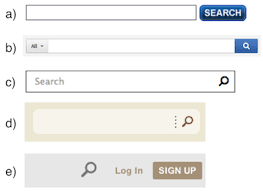searchIcon: (79, 159, 97, 179), (180, 113, 194, 128), (218, 74, 230, 88), (243, 41, 253, 53)
